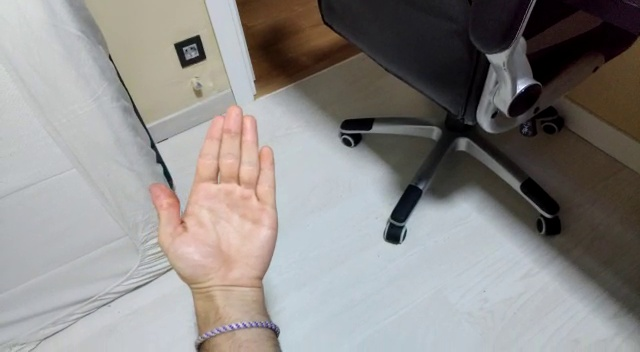Palm: (147, 104, 280, 296)
